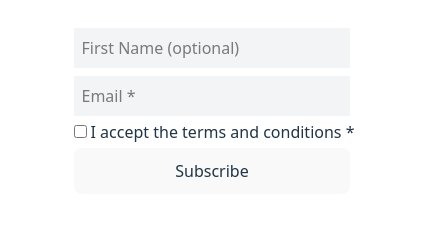
NewsletterSignup › submits form when email is valid and terms are accepted
Type "user@example.com" into the field with test id "input-email".
click(212, 96); type("user@example.com")  # box [74,76,350,116]
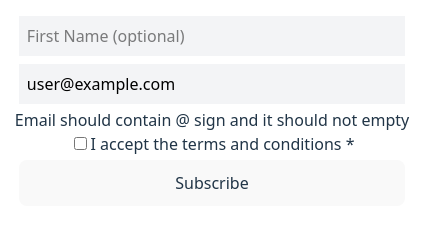
Click the checkbox with test id "checkbox-terms".
click(80, 144)  # box [74,137,86,150]
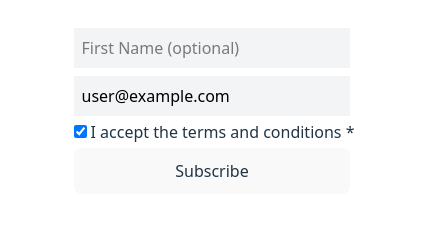
Click the button with test id "submit-button".
click(212, 171)  # box [74,148,350,194]
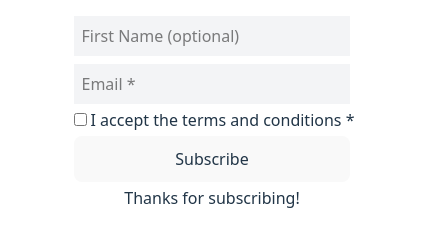
Expected: the text "Thanks for subscribing!" is shown, [124,187,300,209]
